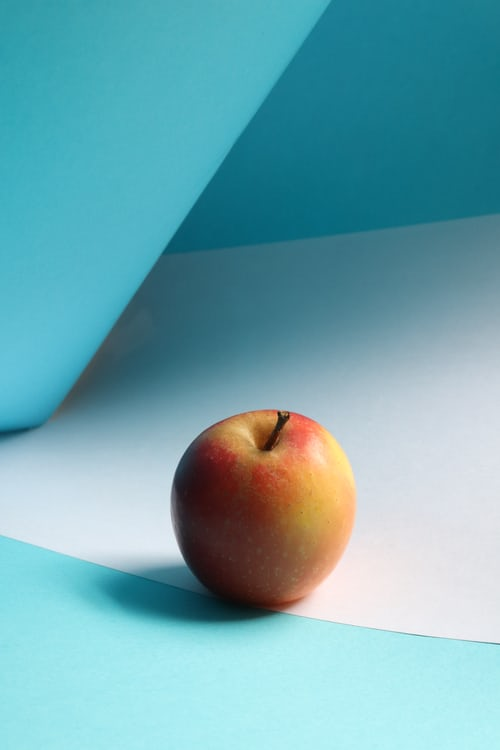apple: (167, 406, 359, 612)
